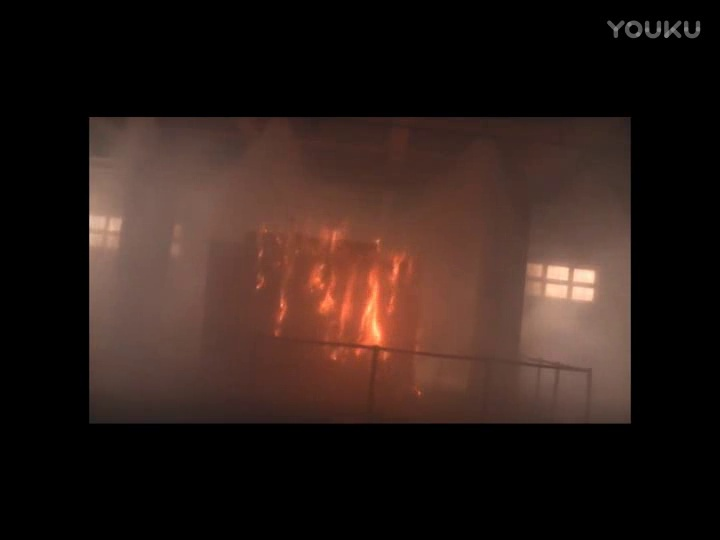fire: (352, 259, 393, 355)
